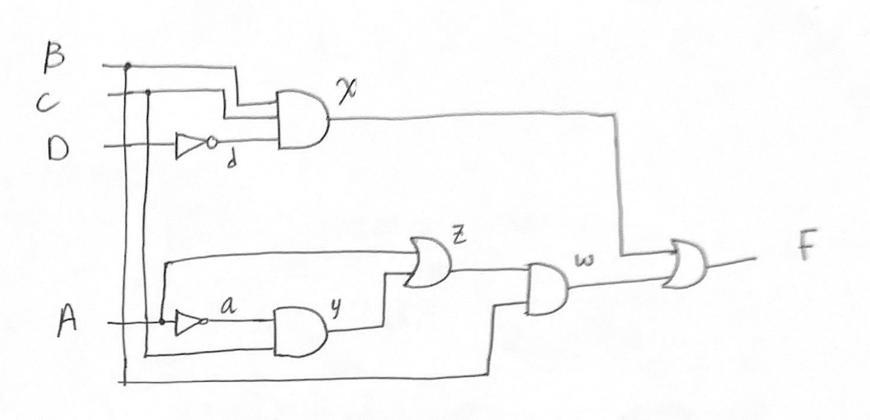AND: (273, 83, 337, 160), (524, 245, 574, 327), (269, 299, 331, 363)
NOT: (173, 123, 218, 168), (168, 305, 216, 343)
OR: (659, 233, 720, 305), (401, 229, 456, 305)
